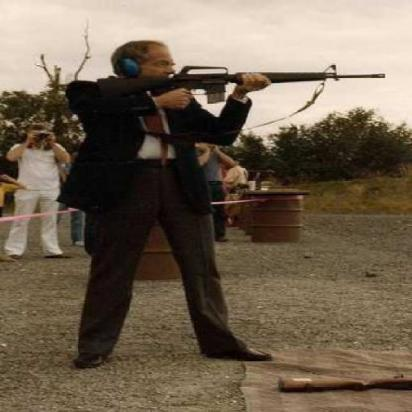Gun: (83, 63, 406, 108)
